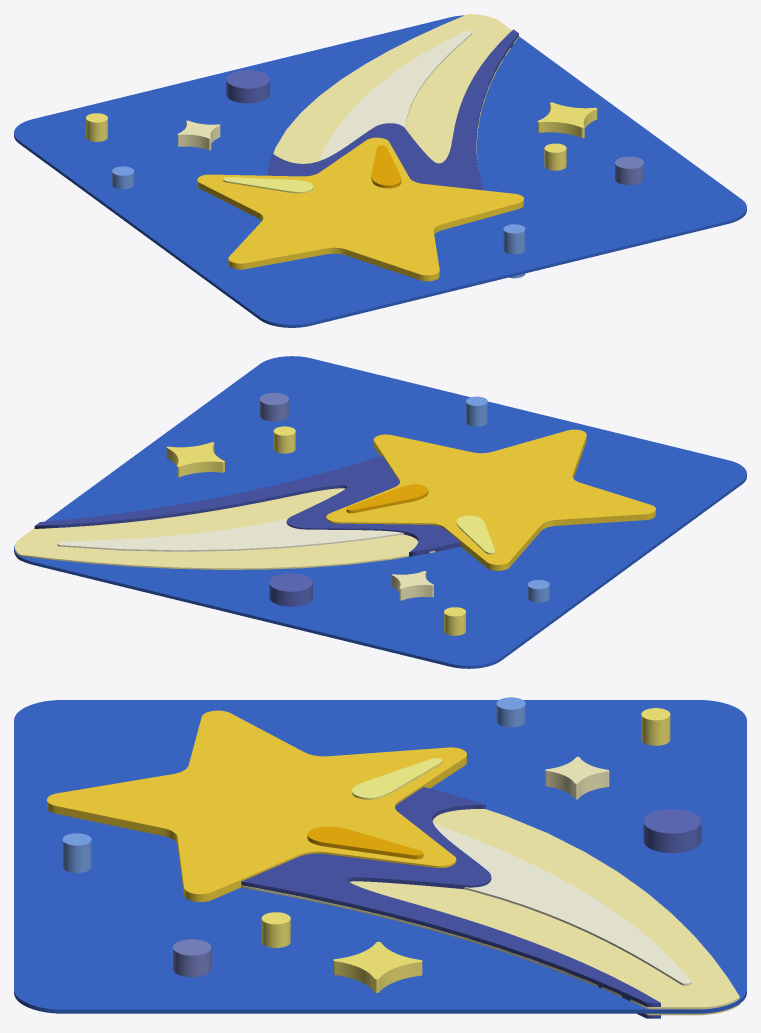
Rendered from emoji_u1f320.glb.
The picture shows the model from 3 angles, top to bottom: view 1: azimuth 30°, elevation 25°; view 2: azimuth 150°, elevation 25°; view 3: azimuth 270°, elevation 25°; orthographic projection. The views are drawn at different scales.
Visible parts, largest first — view 1: emoji_u1f320; view 2: emoji_u1f320; view 3: emoji_u1f320.
Part boxes in pixels (<box>): emoji_u1f320: <box>14,14,746,327</box>; emoji_u1f320: <box>14,356,746,668</box>; emoji_u1f320: <box>14,697,746,1018</box>.
Size of the model in its own units: 0.0339 by 0.003 by 0.0339.
